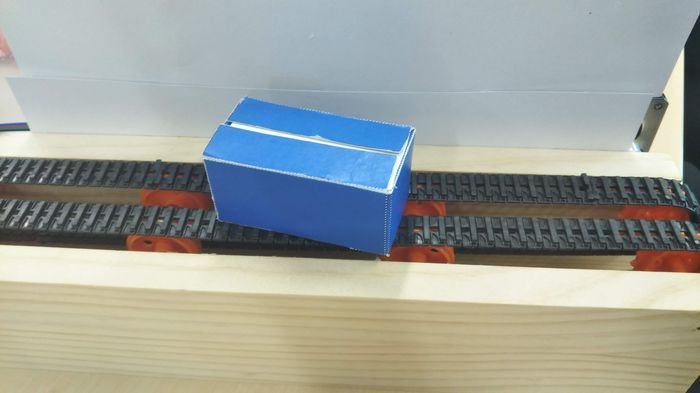box3: (199, 91, 416, 261)
